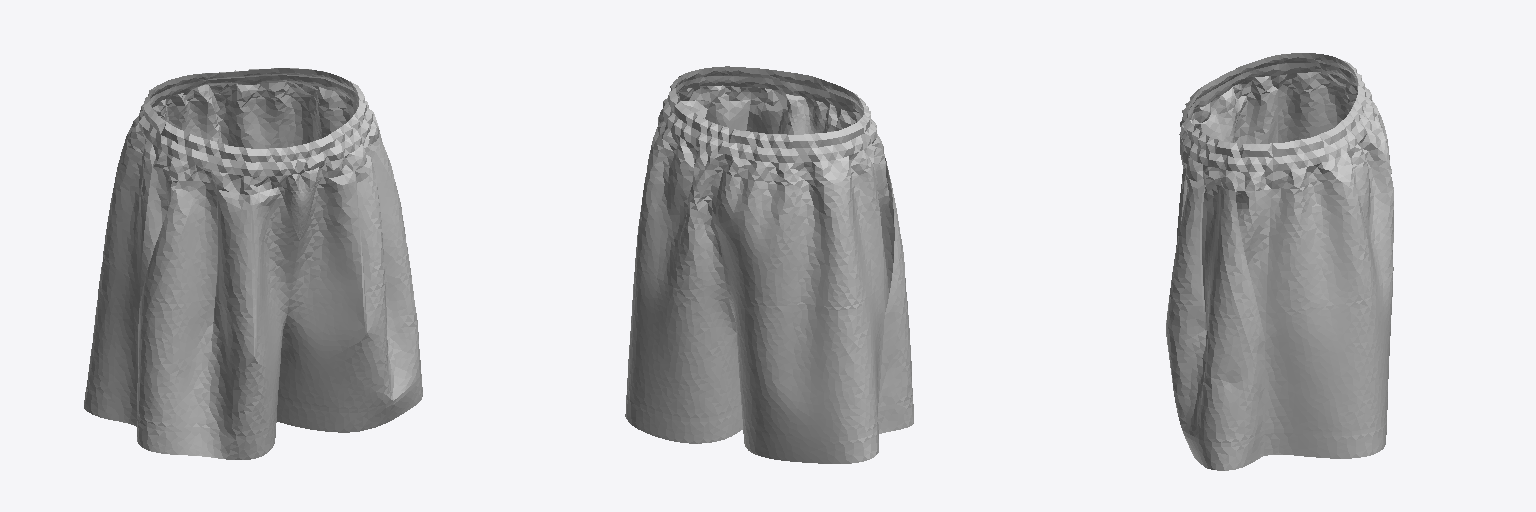
File: Medium_Tall.obj
The picture shows the model from 3 angles: view 1: azimuth 30°, elevation 25°; view 2: azimuth 150°, elevation 25°; view 3: azimuth 270°, elevation 25°; orthographic projection.
Visible parts, largest first — view 1: duanku; view 2: duanku; view 3: duanku.
Boxes of the visible parts, x1=… form: duanku: x1=84, y1=68, x2=422, y2=459; duanku: x1=625, y1=66, x2=913, y2=463; duanku: x1=1166, y1=53, x2=1393, y2=470.
Bounding box in the file's own units: 0.4626 × 0.5179 × 0.3316.